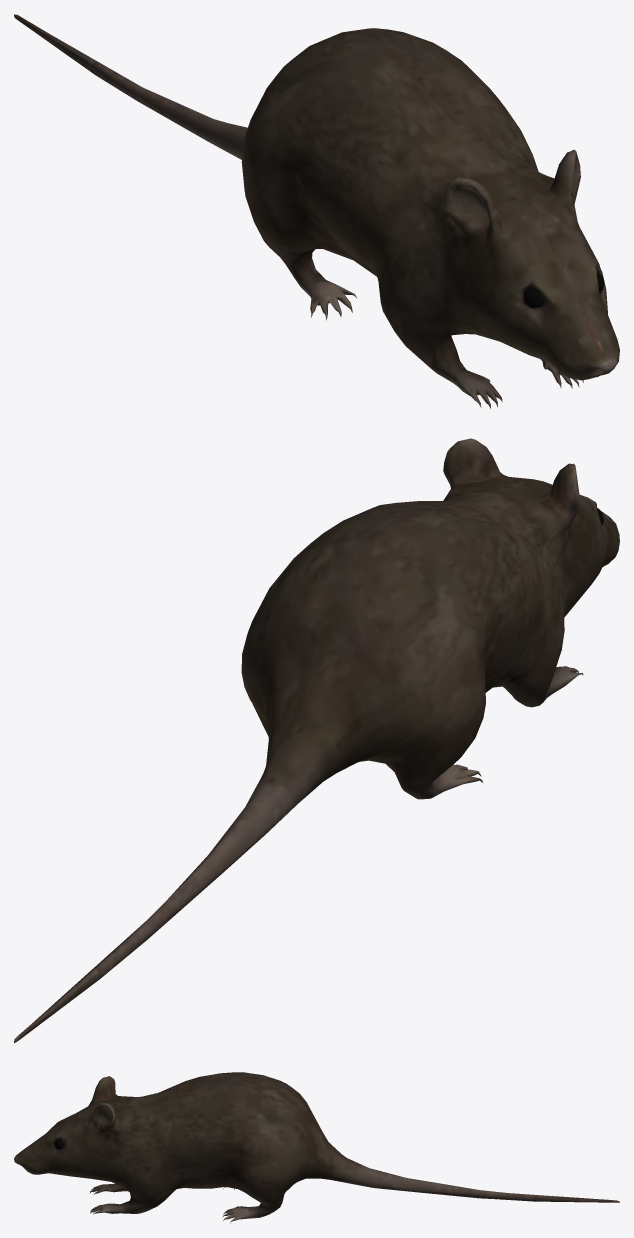
File: street_rat.glb
The picture shows the model from 3 angles, top to bottom: view 1: azimuth 30°, elevation 25°; view 2: azimuth 150°, elevation 25°; view 3: azimuth 270°, elevation 25°; orthographic projection. The views are drawn at different scales.
Visible parts, largest first — view 1: street_rat; view 2: street_rat; view 3: street_rat.
Boxes of the visible parts, box(x1,y1,x2,y2) form: street_rat: box(14, 14, 619, 408); street_rat: box(14, 438, 619, 1043); street_rat: box(14, 1072, 619, 1223).
Size of the model in its own units: 0.0319 by 0.0338 by 0.1483.
Materials: 1 (1 with a texture image).
